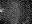person: (1, 8, 5, 15)
